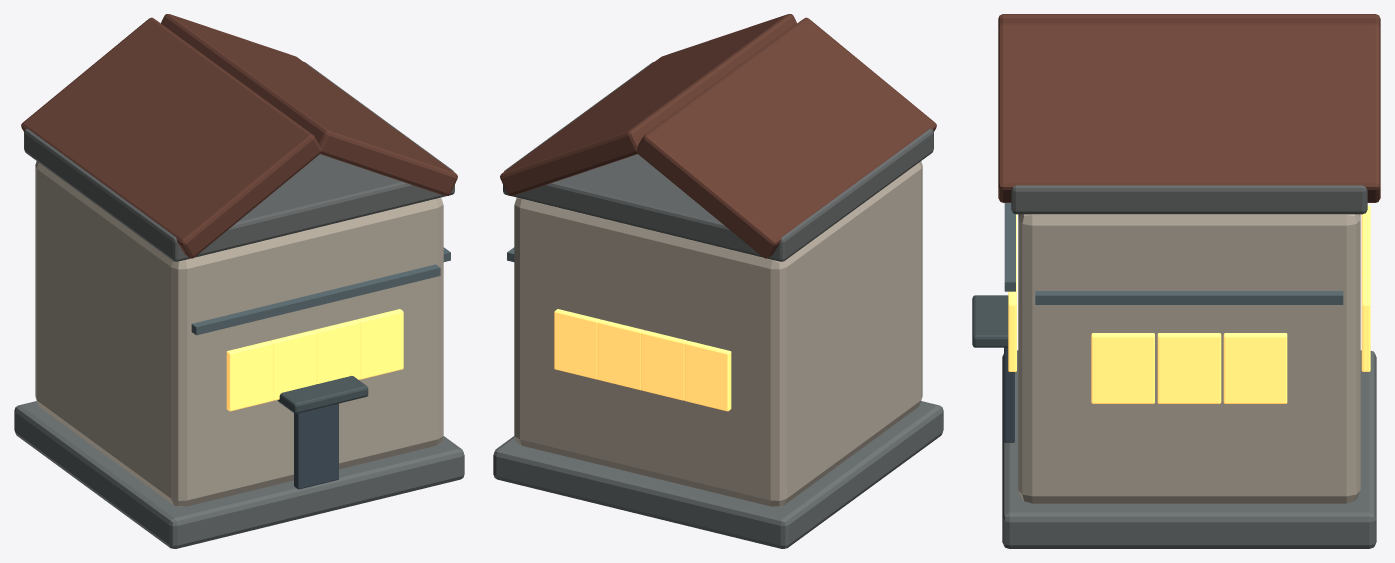
The model's file is residential_rowhouse_stucco.glb.
3 views of the same model, side by side, from view 1: azimuth 30°, elevation 25°; view 2: azimuth 150°, elevation 25°; view 3: azimuth 270°, elevation 25° (orthographic). The views are drawn at different scales.
Visible parts, largest first — view 1: main_massing, sloped_roof, foundation, sloped_roof.001, roof_slab, entry_door, facade_band_front, front_window, front_window.003, front_window.002, front_window.001, entry_canopy; view 2: main_massing, sloped_roof, foundation, sloped_roof.001, roof_slab, rear_window, rear_window.002, rear_window.001, rear_window.003; view 3: main_massing, sloped_roof.001, foundation, roof_slab, side_window, side_window.001, side_window.002, facade_band_side, sloped_roof, entry_canopy, facade_band_front, rear_window.003 (+2 smaller).
Part boxes in pixels (x1,y1,x2,y2): main_massing: (35,161,443,506); sloped_roof: (21,17,320,258); foundation: (14,401,464,548); sloped_roof.001: (161,14,457,195); roof_slab: (24,62,454,261); entry_door: (294,403,338,489); facade_band_front: (191,264,440,335); front_window: (226,341,273,411); front_window.003: (357,309,403,379); front_window.002: (314,319,360,383); front_window.001: (270,330,316,400); entry_canopy: (278,376,368,413); main_massing: (514,161,922,506); sloped_roof: (637,17,936,258); foundation: (493,401,943,548); sloped_roof.001: (500,14,796,195); roof_slab: (503,62,933,261); rear_window: (684,341,731,411); rear_window.002: (597,319,643,390); rear_window.001: (641,330,687,400); rear_window.003: (554,309,600,379); main_massing: (1018,214,1360,503); sloped_roof.001: (998,23,1380,202); foundation: (1002,350,1376,548); roof_slab: (1011,185,1367,214); side_window: (1223,333,1287,403); side_window.001: (1157,333,1221,403); side_window.002: (1091,333,1154,403); facade_band_side: (1035,291,1343,304); sloped_roof: (998,14,1380,27); entry_canopy: (972,295,1008,347); facade_band_front: (1004,203,1015,291); rear_window.003: (1361,279,1370,371).
Size of the model in its own units: 1 by 1.24 by 1.02.
